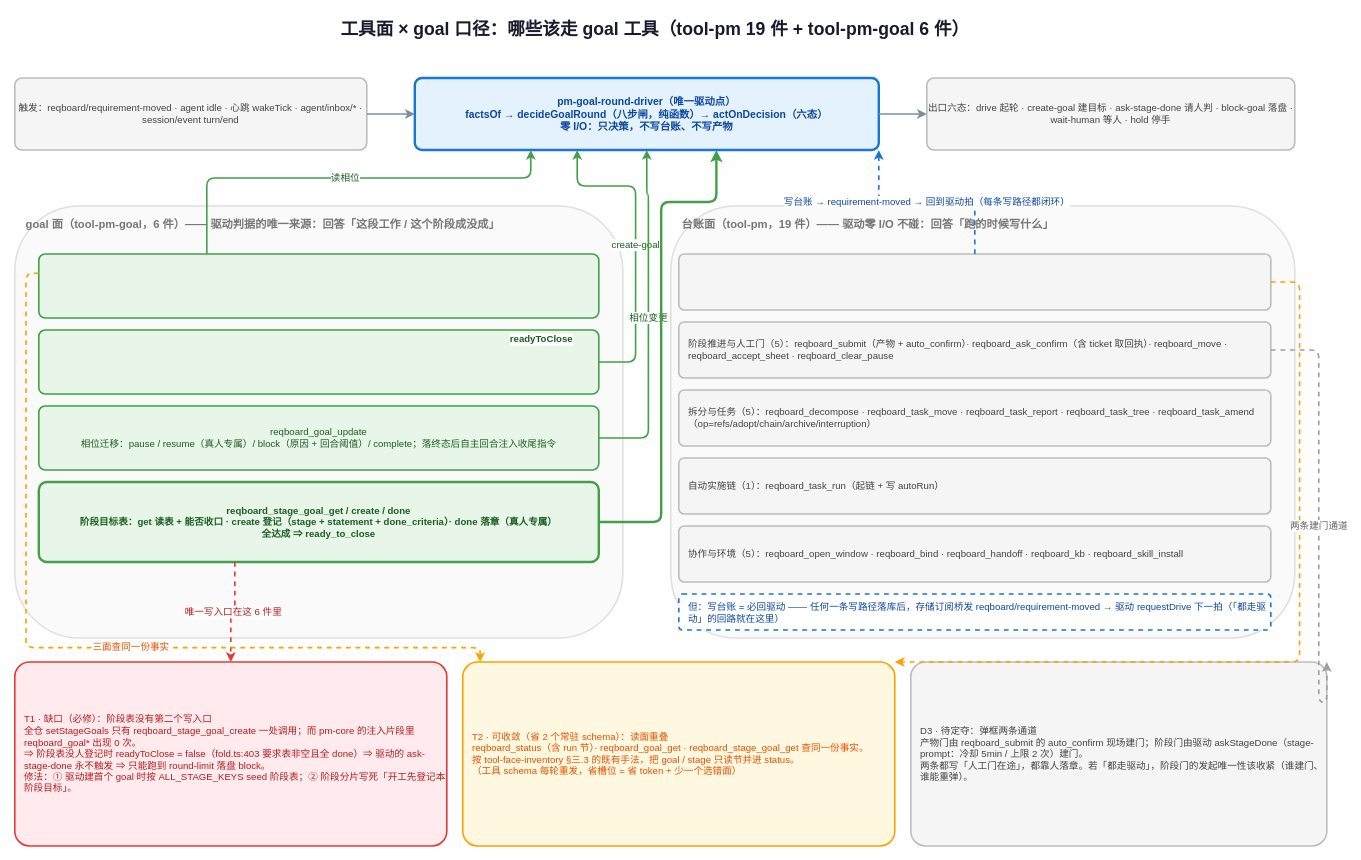
This 1361x860 diagram has some shape labels left out. Each missing label, with the centre of its shape:
reqboard_goal_create 为当前这段工作建 goal（objective 复用任务卡的 acceptance，不另编一份）: [318,361]
reqboard_goal_get 读当前 goal：相位 / 陈述 / 阻塞原因 / 改相位要用的 id+revision: [318,285]
立项与自查（3）：reqboard_capture · reqboard_create · reqboard_status（含 run 节）: [974,281]
